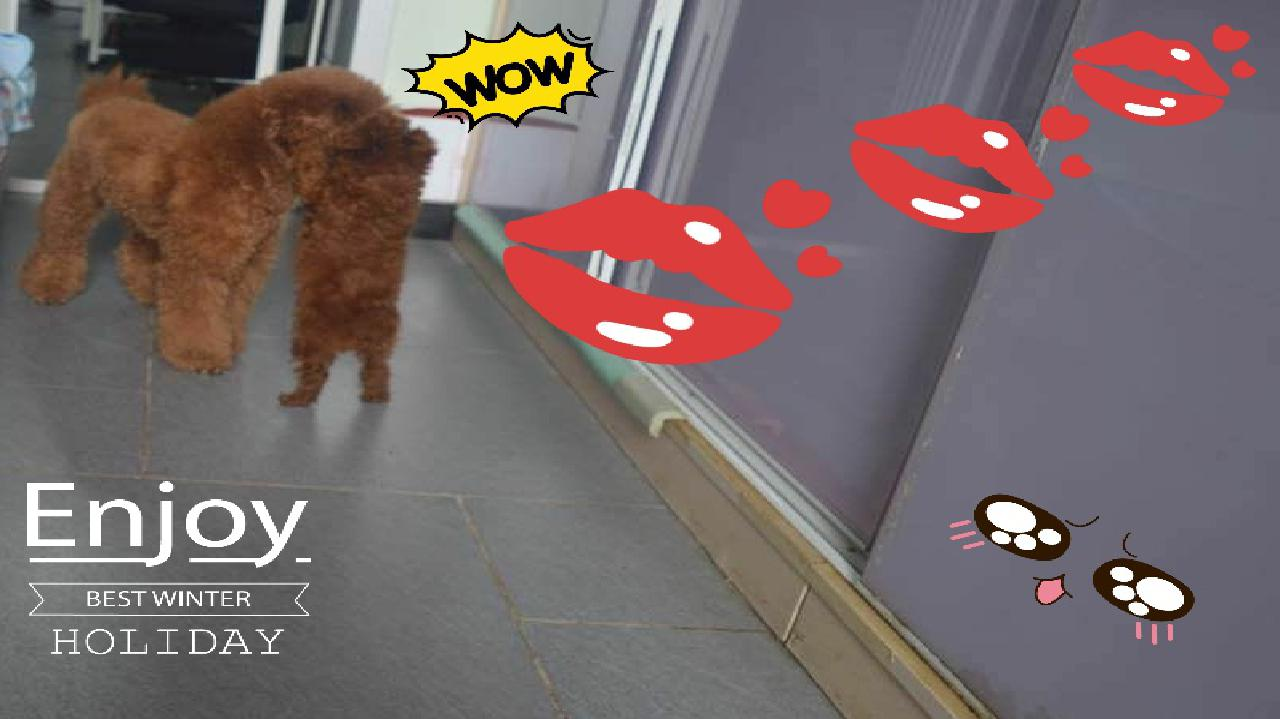coin: (308, 122, 423, 421)
zhuangzhuang: (29, 61, 313, 373)
